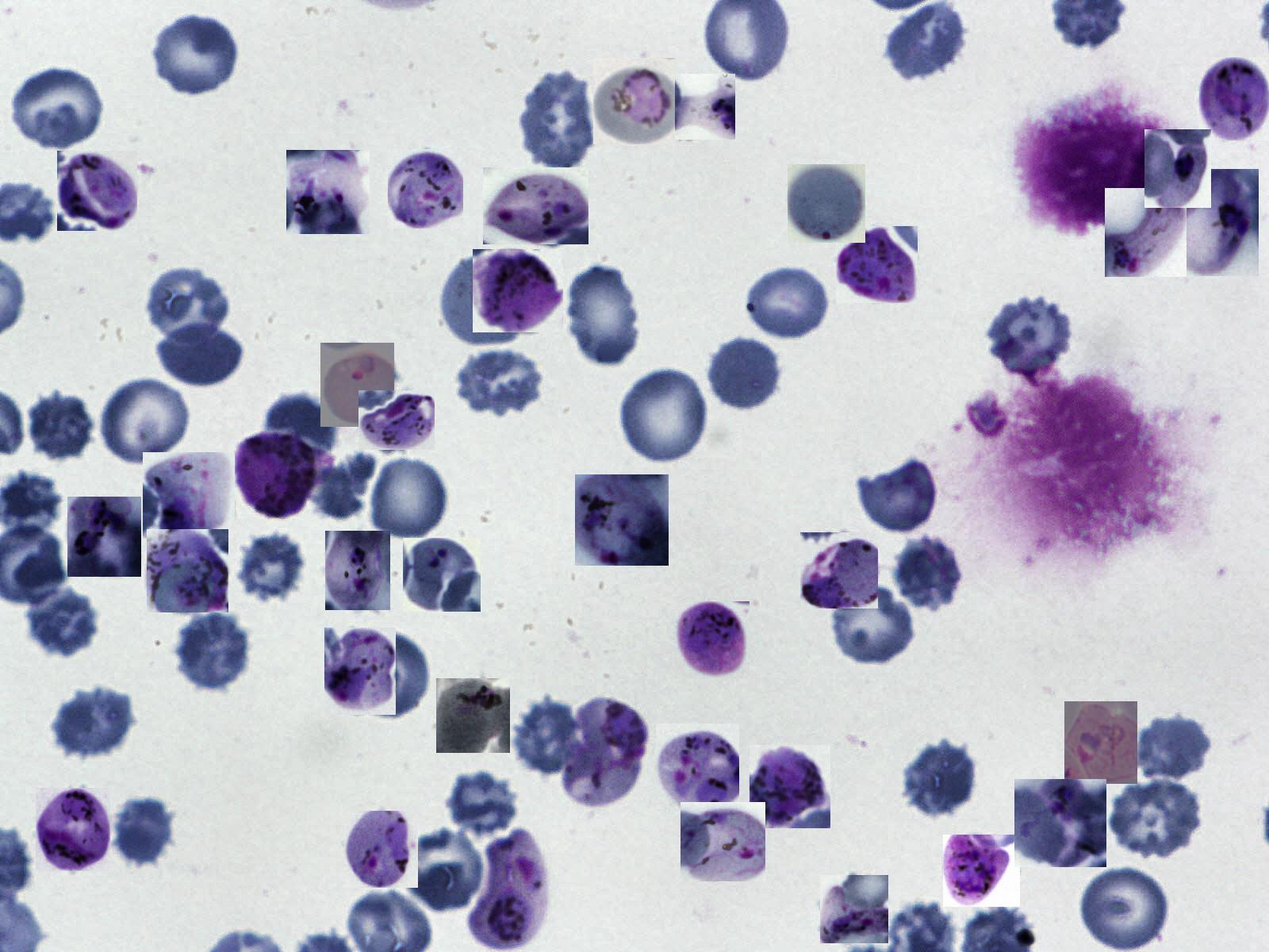Infected: (467, 824, 549, 950), (1167, 169, 1259, 276), (560, 698, 646, 808), (575, 474, 669, 566), (230, 426, 321, 521), (1014, 779, 1106, 867), (483, 167, 588, 244), (143, 452, 235, 539), (473, 249, 563, 332), (1105, 188, 1187, 277), (656, 724, 739, 811), (286, 150, 370, 234), (593, 58, 675, 144), (147, 529, 228, 612), (750, 745, 830, 828), (681, 802, 765, 881), (57, 151, 137, 231), (836, 226, 918, 303), (324, 628, 396, 715), (321, 343, 395, 427), (36, 788, 110, 871), (788, 164, 865, 243), (1064, 701, 1137, 784), (800, 532, 878, 608), (388, 149, 463, 228), (67, 497, 141, 577), (674, 601, 750, 678), (1199, 57, 1269, 140), (403, 538, 481, 612), (345, 811, 418, 888), (436, 679, 510, 754), (943, 835, 1020, 907), (1144, 129, 1211, 208), (326, 531, 391, 610), (820, 875, 888, 943), (665, 74, 735, 140), (358, 390, 435, 450)
Uninfected: (618, 365, 712, 466), (97, 374, 194, 466), (436, 254, 534, 344), (148, 9, 243, 100), (1106, 777, 1208, 860), (9, 65, 108, 148), (1079, 862, 1170, 951), (516, 66, 592, 169), (566, 267, 642, 366), (986, 292, 1075, 375), (366, 455, 451, 540), (144, 266, 232, 347), (401, 828, 484, 913), (350, 631, 428, 720), (858, 453, 941, 536), (745, 263, 832, 342), (832, 583, 916, 664), (172, 612, 254, 693), (900, 736, 979, 820), (887, 2, 967, 79), (52, 686, 136, 759), (454, 350, 542, 419), (707, 335, 784, 413), (891, 533, 964, 615), (158, 321, 244, 388), (22, 584, 98, 659), (26, 386, 96, 465), (512, 698, 581, 775), (239, 528, 305, 601), (1136, 716, 1211, 780), (447, 771, 517, 839), (312, 447, 376, 519), (266, 389, 336, 451), (114, 796, 175, 866)
